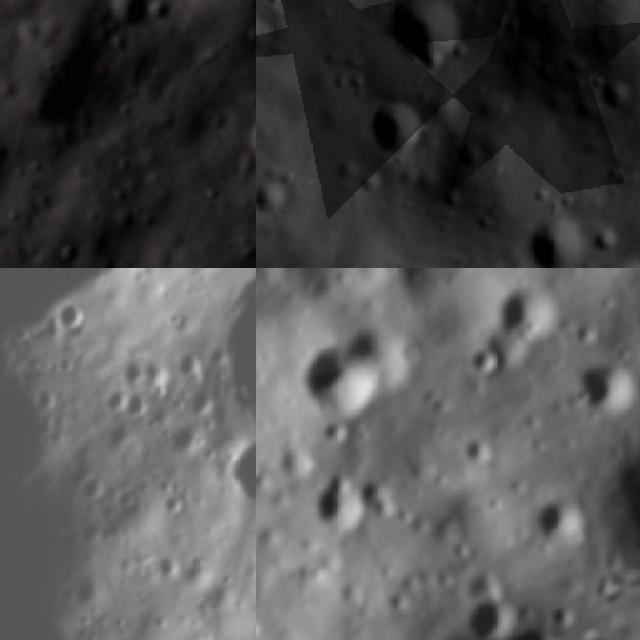crater: (274, 329, 398, 451), (333, 310, 436, 410), (474, 268, 574, 363), (256, 274, 298, 479), (294, 464, 384, 553), (356, 268, 503, 321), (582, 434, 640, 552), (560, 351, 640, 436), (511, 485, 594, 565), (397, 0, 466, 83), (346, 470, 412, 536), (448, 583, 521, 640), (484, 602, 573, 640), (522, 218, 585, 268), (446, 422, 501, 478), (456, 337, 511, 391), (376, 108, 426, 156), (53, 289, 90, 343), (101, 0, 154, 31), (232, 112, 256, 163), (256, 181, 288, 216), (256, 597, 280, 640), (455, 139, 487, 170)
